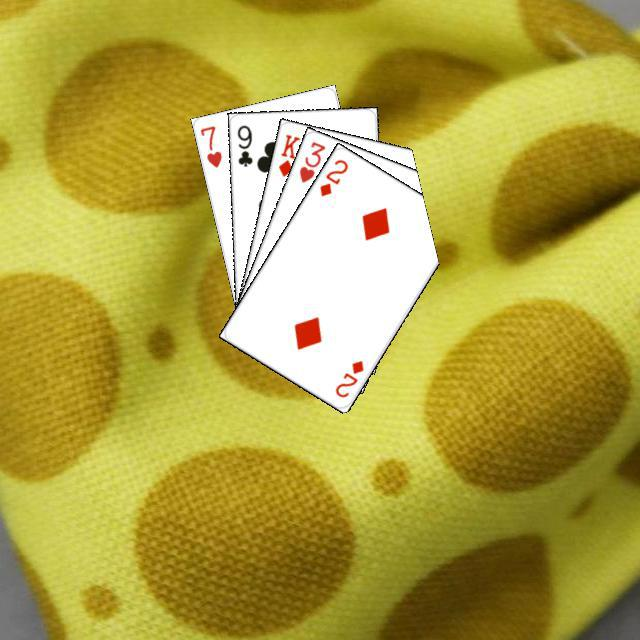2d: (314, 154, 350, 198), (330, 355, 365, 399)
3h: (294, 136, 327, 185)
7h: (195, 121, 223, 169)
9c: (232, 120, 254, 168)
Kd: (273, 129, 302, 178)
